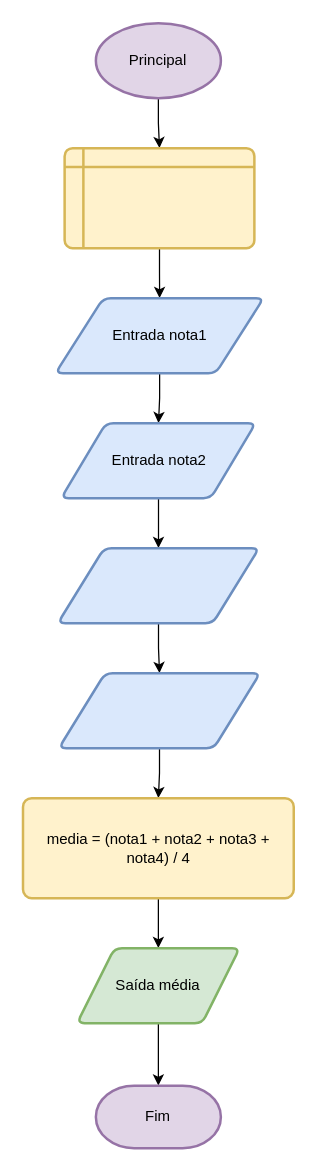
Image size: 316x1170. Some labels were removed from this diagram. Each missing label, with the centre of its shape:
"Entrada nota3" belongs at pixel 158 585.
"Entrada nota4" belongs at pixel 159 710.
"Real nota1, nota2, nota3, nota4, media" belongs at pixel 159 197.
